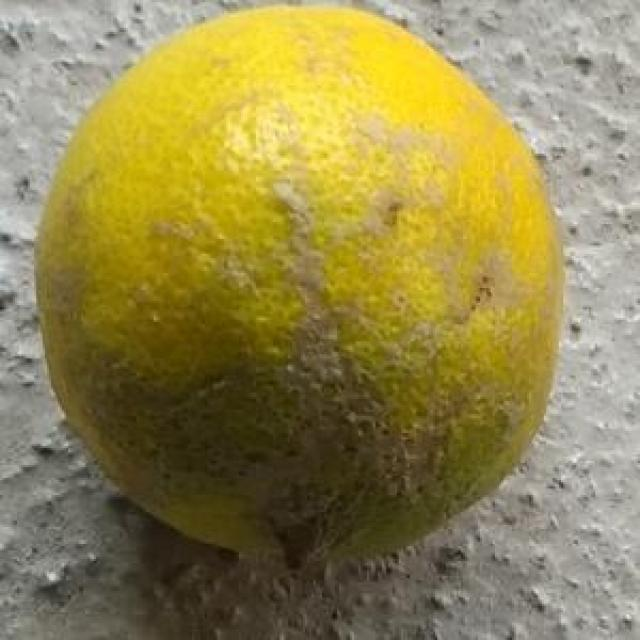lemon: (31, 4, 562, 571)
